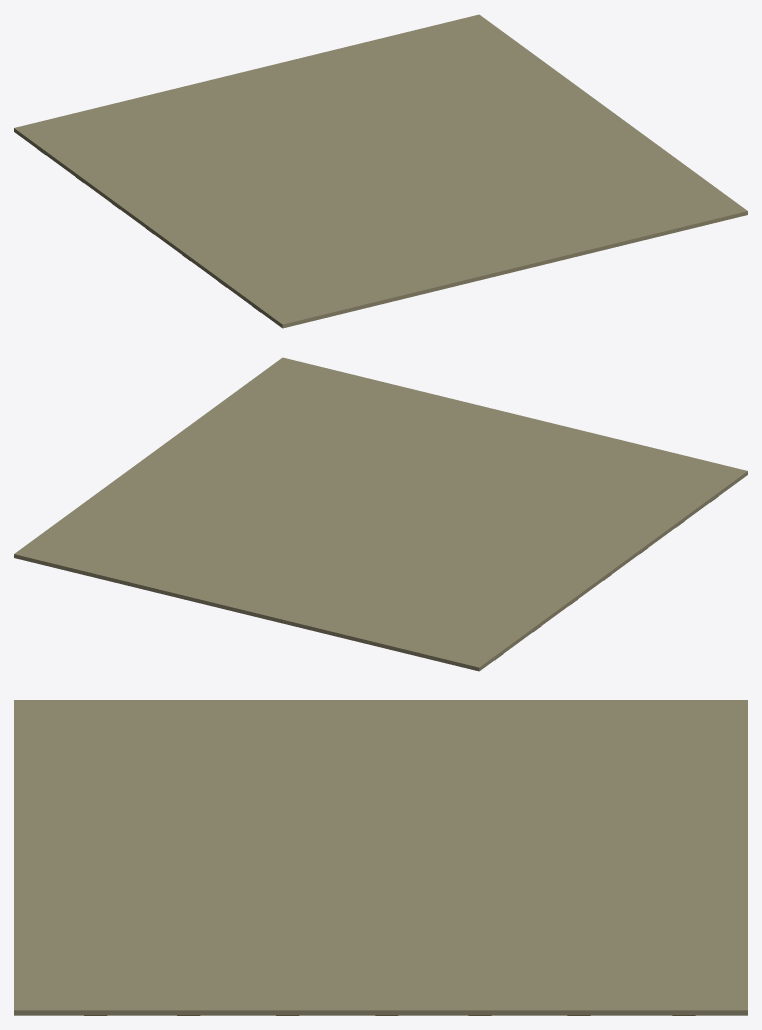
Rendered from roof.obj.
3 views of the same model, one above another, from view 1: azimuth 30°, elevation 25°; view 2: azimuth 150°, elevation 25°; view 3: azimuth 270°, elevation 25° (orthographic). The views are drawn at different scales.
Size of the model in its own units: 126 by 2 by 126.
1 material, 1 textured.
